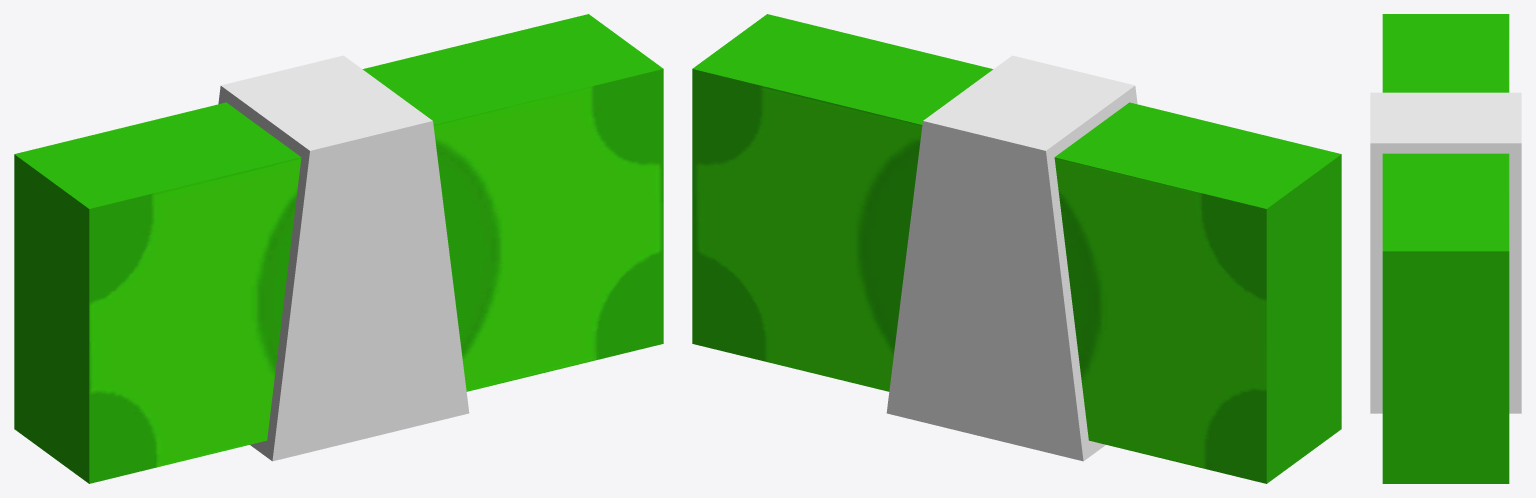
Rendered from Collectable_Coin_7.fbx.
The picture shows the model from 3 angles, left to right: view 1: azimuth 30°, elevation 25°; view 2: azimuth 150°, elevation 25°; view 3: azimuth 270°, elevation 25°; orthographic projection. The views are drawn at different scales.
Parts seen in each view (by area): view 1: MoneyStack; view 2: MoneyStack; view 3: MoneyStack.
Boxes of the visible parts, x1,y1,x2,y2 form: MoneyStack: [14, 14, 663, 483]; MoneyStack: [692, 14, 1341, 483]; MoneyStack: [1370, 14, 1521, 483].
Bounding box in the file's own units: 0.7082 × 0.355 × 0.1909.
2 materials, 1 textured.
